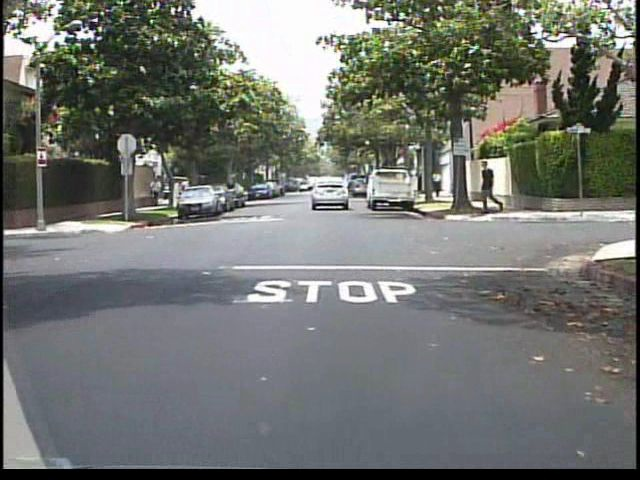person: (478, 158, 505, 217), (149, 177, 168, 208), (429, 166, 445, 201), (178, 175, 194, 206)
